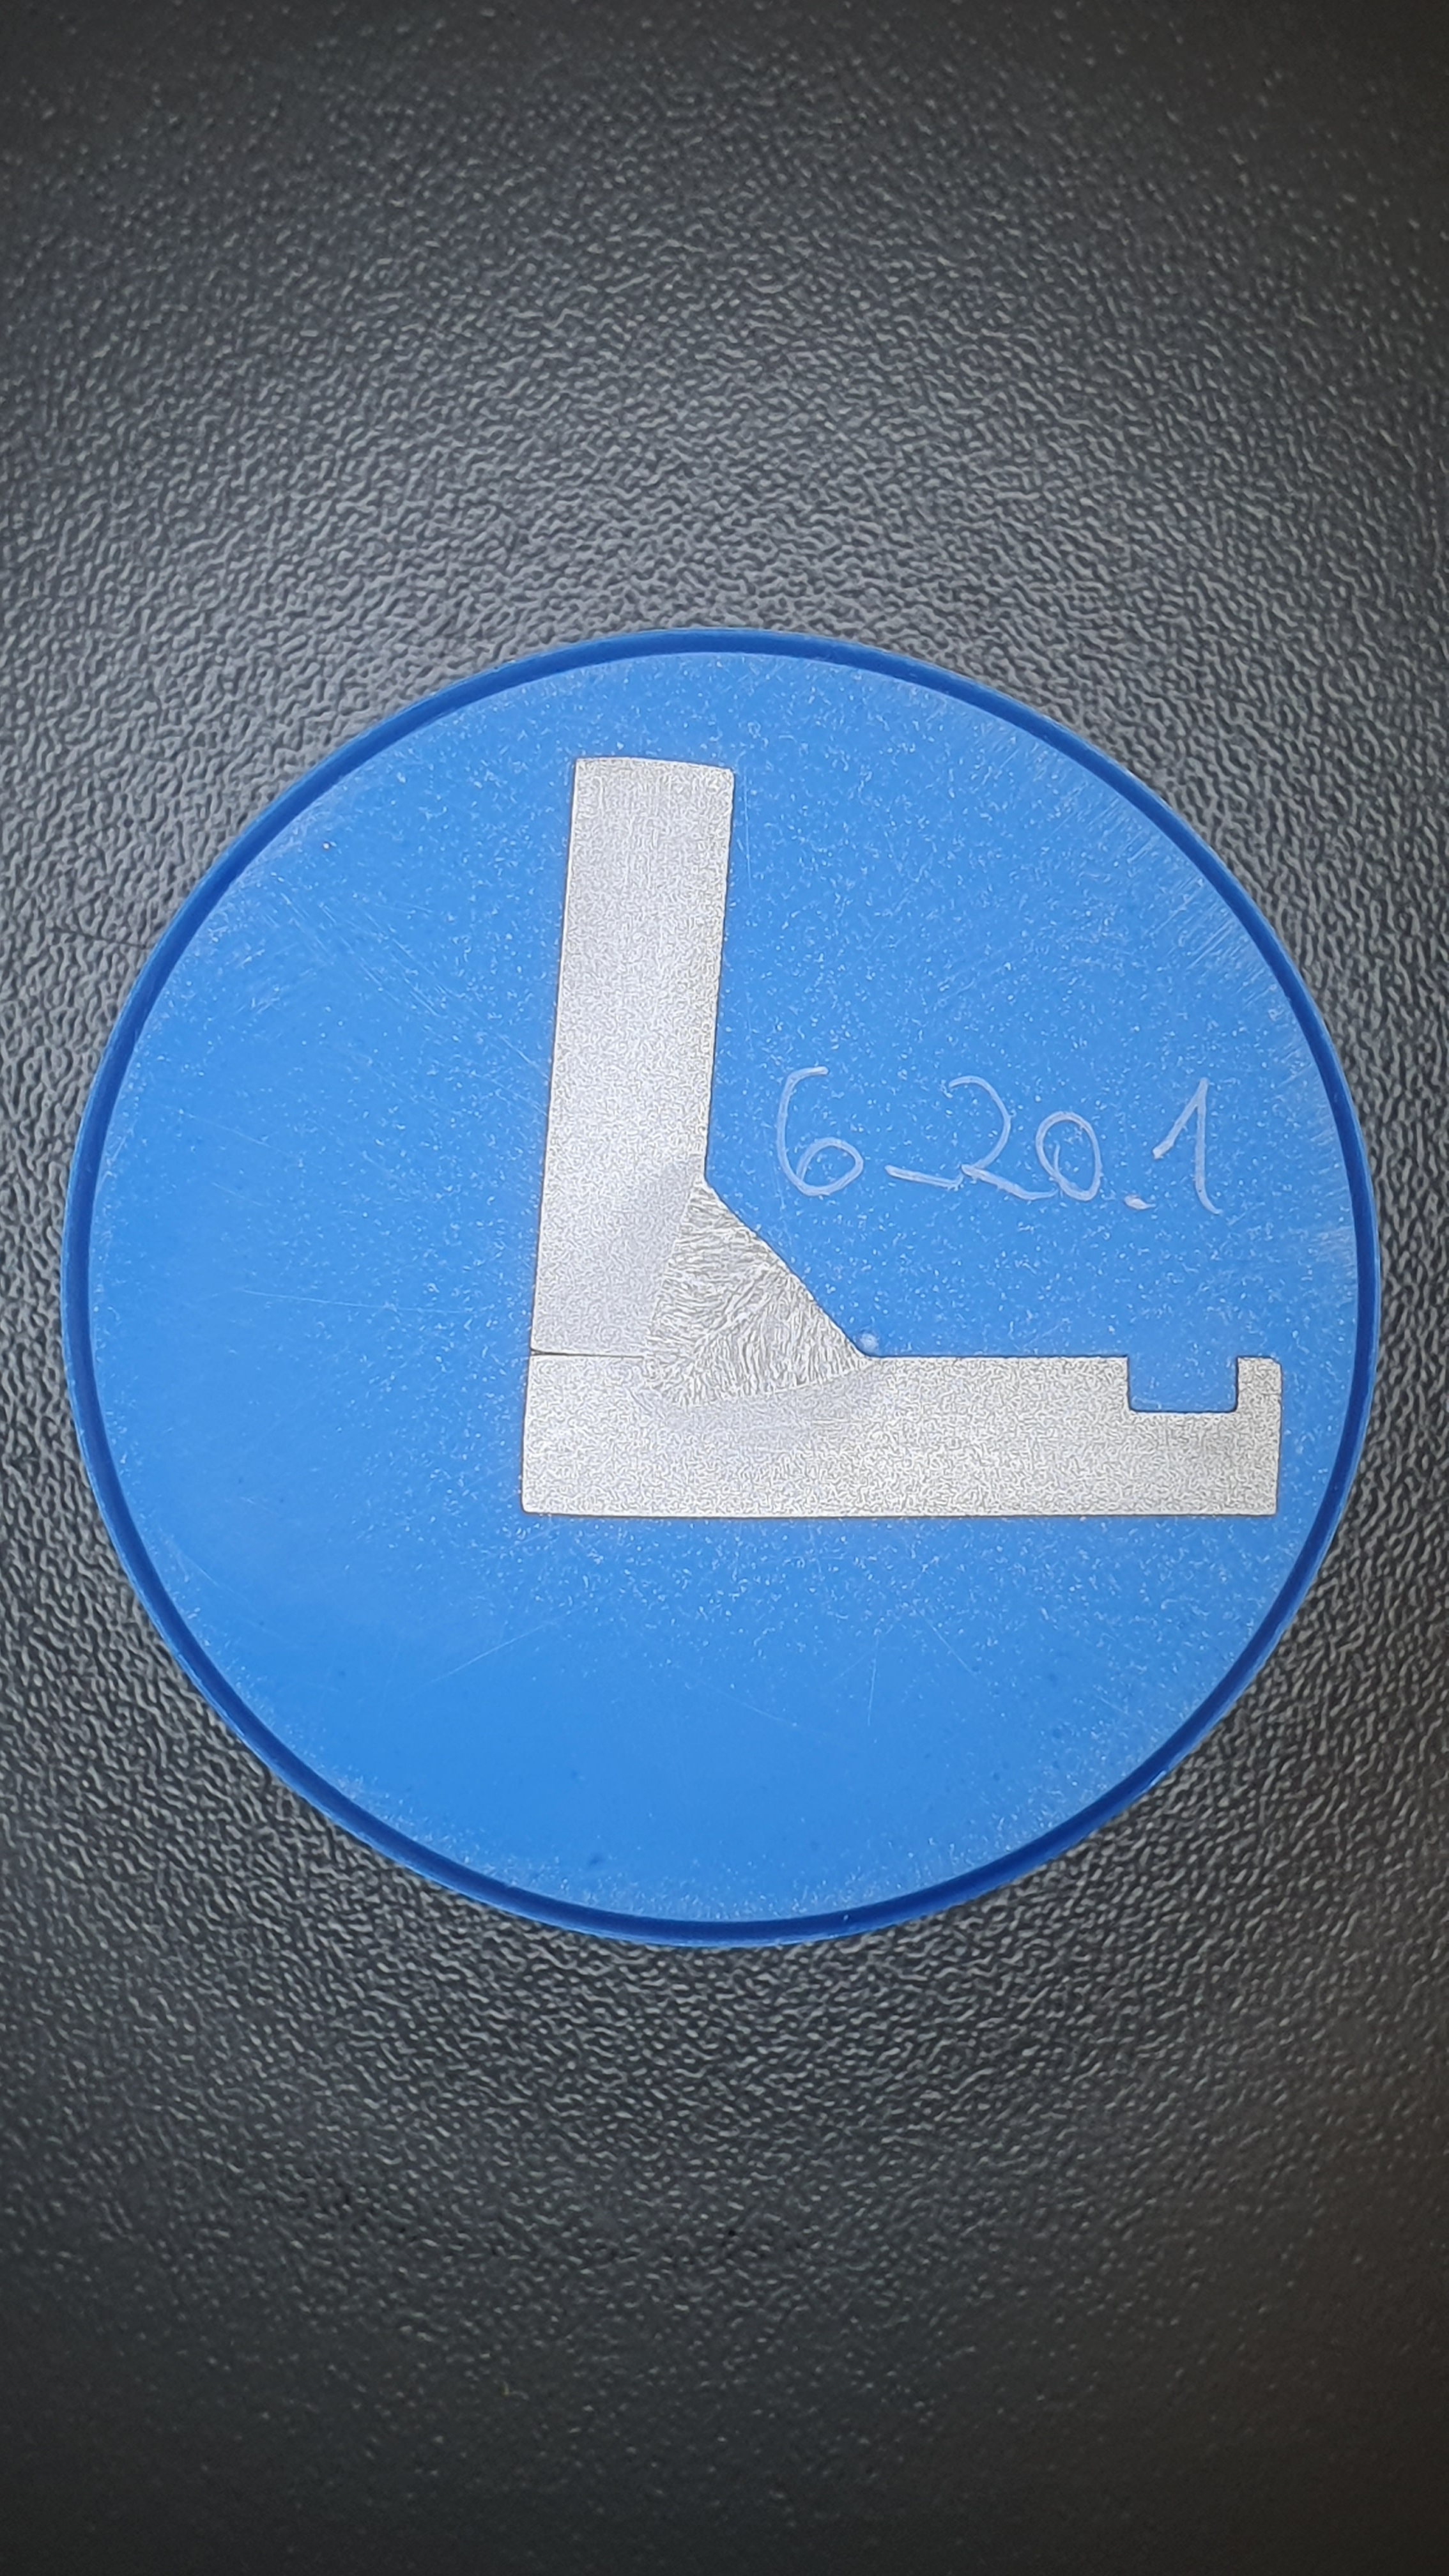Fusion: (640, 1171, 870, 1407)
Hintergrund: (88, 651, 1359, 1923)
Metall: (522, 757, 1283, 1518)
Nebenbereich: (596, 1155, 890, 1453)
